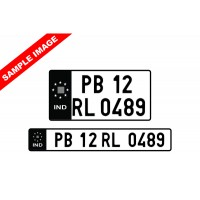number_plate: (49, 68, 152, 121), (28, 127, 173, 153)
